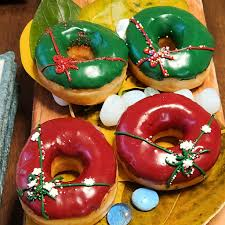Donut: (114, 91, 225, 191), (16, 117, 115, 224), (33, 19, 129, 110), (125, 3, 220, 93)
